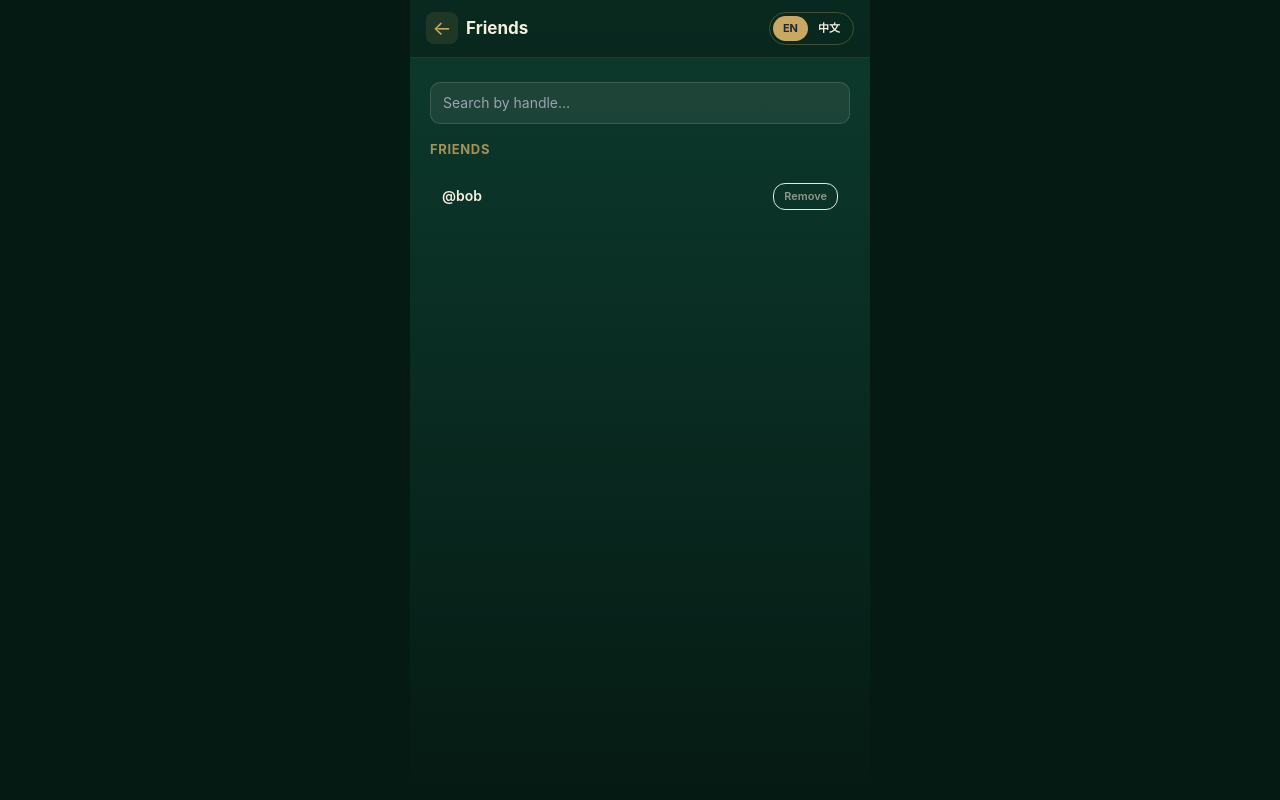
it: FriendsPage — search › shows no results empty state
Type "xyz" into the search field with placeholder "Search by handle…".
click(640, 102); type("xyz")  # box left=430, top=82, right=850, bottom=124
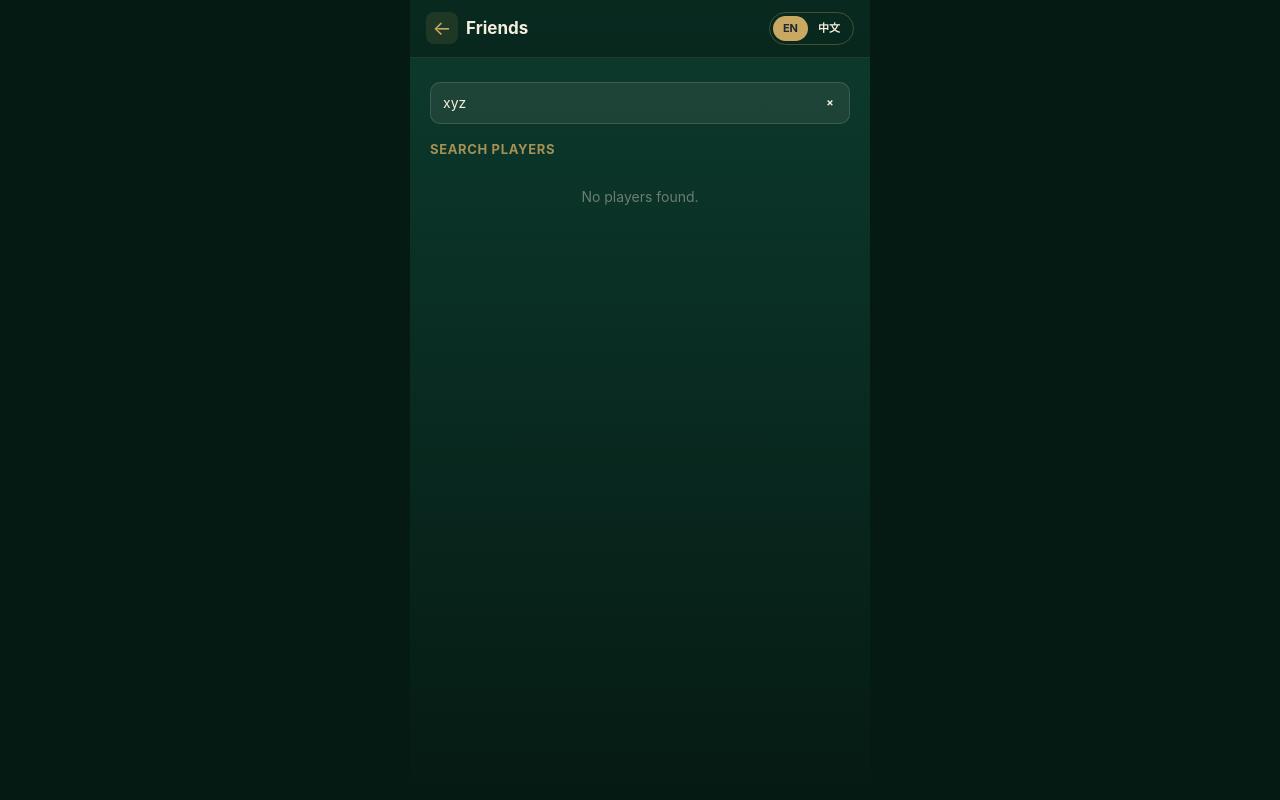
expect the text "No players found." is shown: met, box left=581, top=188, right=699, bottom=205
